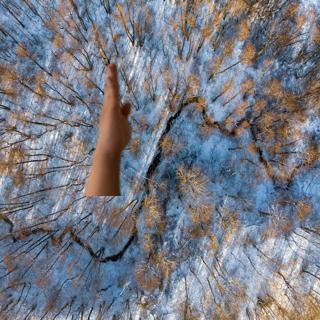RIGHT: (91, 58, 137, 157)
